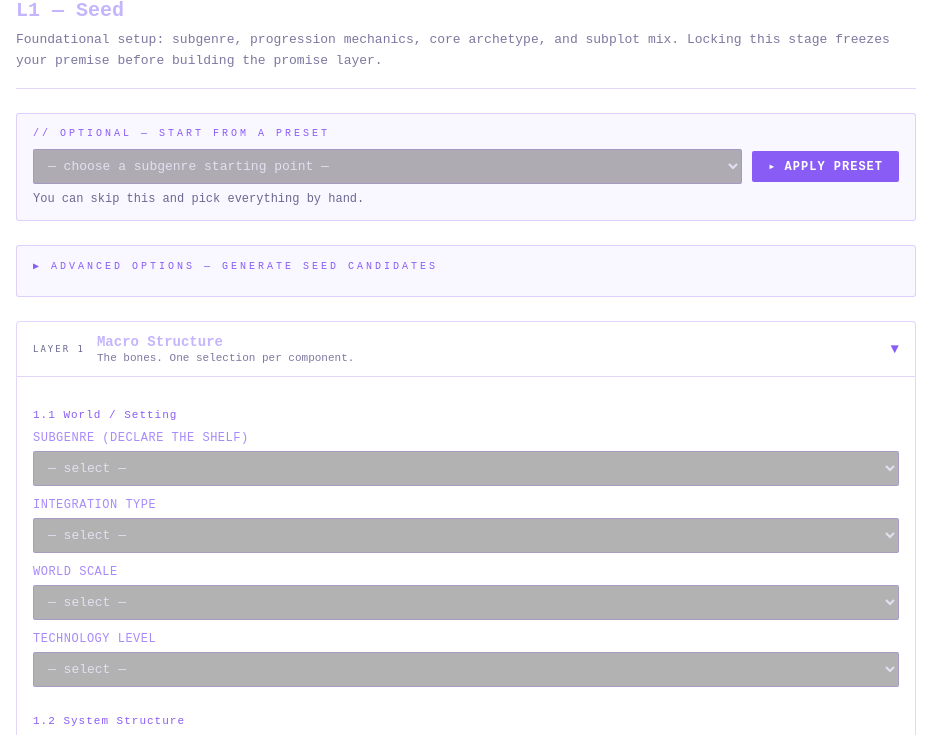
L1Seed › enables lock button only when candidate is picked
// Open advanced options and generate
What coordinates should you click on to do the following:
click the text "▶ ADVANCED OPTIONS — GENERATE SEED CANDIDATES"
I would click on:
 (236, 266)
Its box is [33, 261, 438, 272].
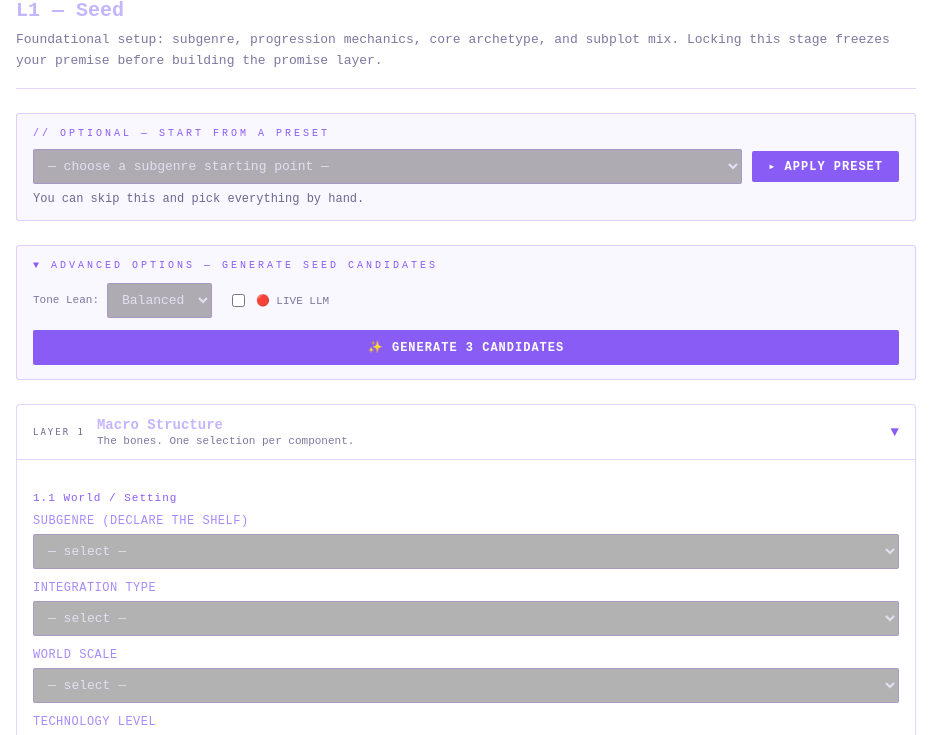
What coordinates should you click on to do the following:
click the button "✨ GENERATE 3 CANDIDATES"
I would click on:
 (466, 347)
Its box is [33, 330, 899, 365].
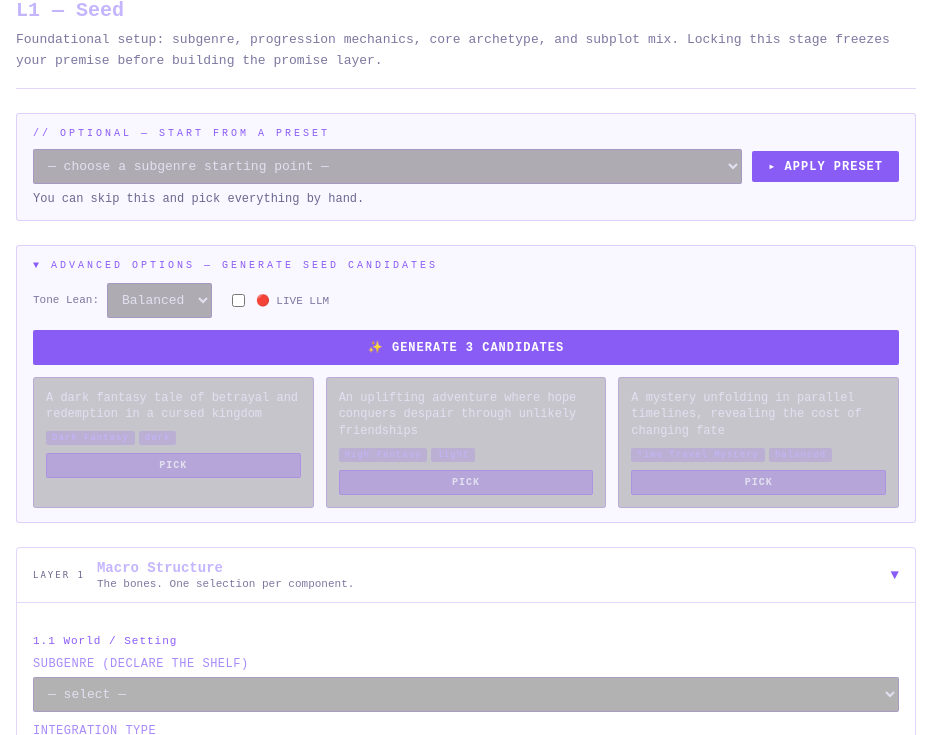
Result: the text "A dark fantasy tale of betrayal" is shown at [46, 391, 298, 421]
// Pick first candidate
What coordinates should you click on to do the following:
click the 1st button "PICK"
I would click on:
 (173, 466)
Its box is [46, 453, 301, 478].
(page scrolled)
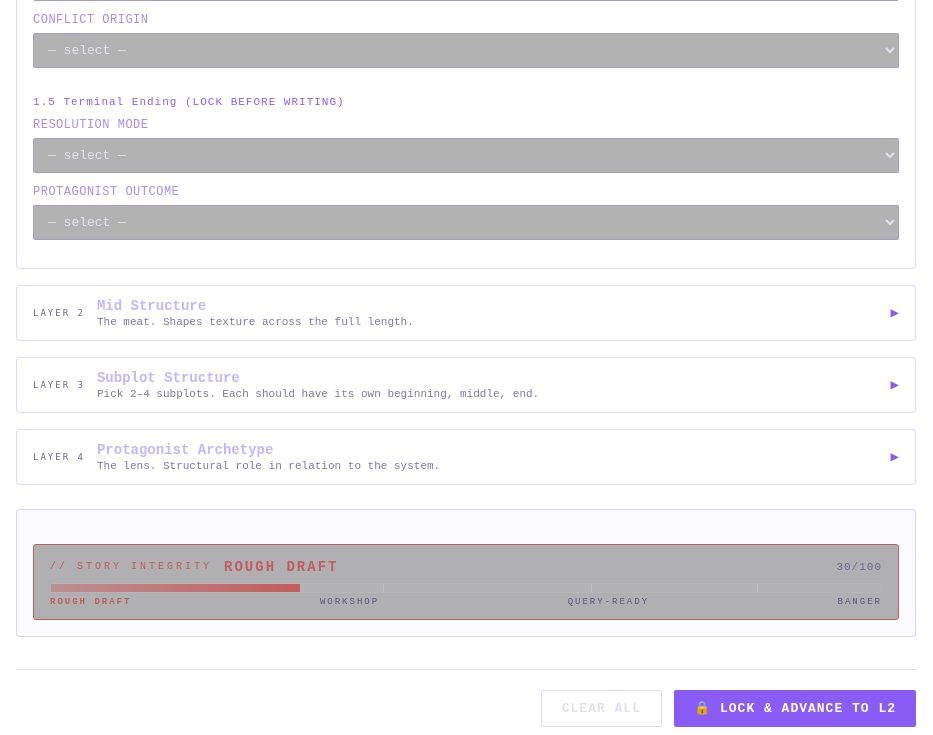
Result: the button "🔒 LOCK & ADVANCE TO L2" is enabled at [674, 690, 916, 727]
